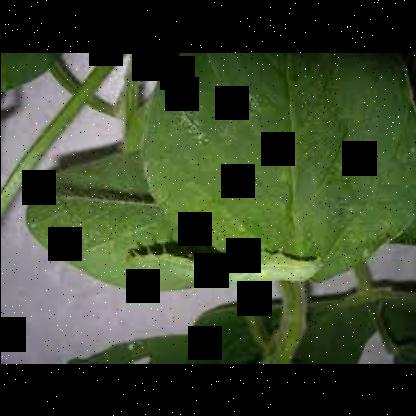oruga: (119, 247, 324, 282)
